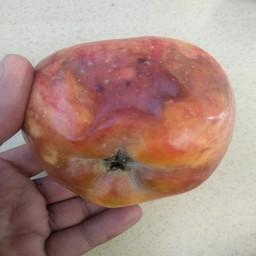Bad_apple: (27, 37, 235, 207)
